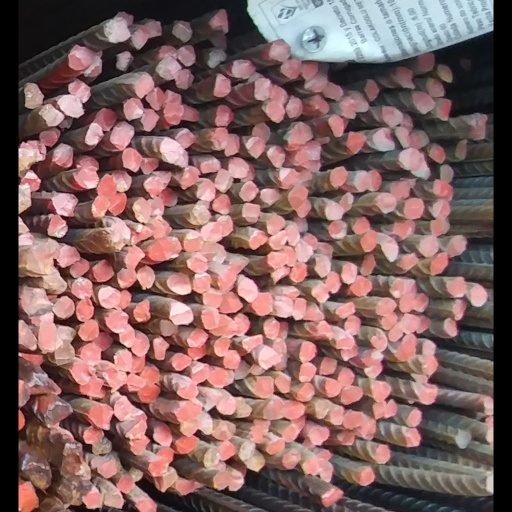dipstick: (25, 365, 62, 394), (147, 237, 181, 260), (44, 400, 72, 426), (162, 140, 188, 167), (30, 288, 53, 318), (27, 247, 52, 274), (38, 323, 61, 351), (285, 123, 313, 146), (90, 404, 114, 430), (144, 171, 169, 195), (167, 271, 192, 295), (52, 193, 79, 215), (81, 375, 105, 399), (29, 462, 52, 487), (395, 334, 417, 360), (213, 470, 243, 489), (111, 124, 134, 148), (107, 225, 129, 250), (252, 376, 275, 399), (412, 91, 435, 114), (60, 95, 84, 117), (41, 105, 64, 127), (156, 58, 179, 80), (43, 271, 66, 293), (105, 20, 129, 41), (19, 322, 37, 350), (153, 423, 174, 447), (19, 483, 38, 509), (53, 296, 75, 318), (71, 362, 94, 383), (105, 367, 126, 390), (169, 303, 192, 324), (129, 225, 152, 246), (350, 276, 373, 297), (213, 419, 237, 439), (269, 39, 290, 61), (98, 287, 120, 308), (94, 259, 114, 282), (263, 397, 283, 420), (259, 346, 279, 369), (24, 84, 43, 108), (254, 292, 273, 316), (135, 73, 153, 98), (106, 310, 127, 331), (80, 344, 101, 365), (213, 315, 234, 336), (187, 253, 208, 274), (205, 243, 226, 264), (399, 149, 420, 170), (70, 79, 90, 101), (125, 247, 145, 269), (53, 143, 72, 166), (137, 266, 156, 289), (288, 186, 307, 209), (238, 278, 257, 301), (469, 284, 488, 307), (347, 131, 366, 154), (123, 149, 141, 173), (470, 114, 487, 139), (71, 48, 92, 68), (195, 180, 215, 201), (184, 231, 205, 251), (201, 222, 222, 242), (322, 488, 344, 507), (223, 293, 242, 315), (447, 235, 466, 257), (216, 104, 234, 127), (122, 421, 145, 439), (132, 198, 150, 221), (267, 145, 285, 168), (231, 60, 255, 77), (381, 238, 398, 262), (176, 402, 201, 418), (433, 180, 453, 200), (409, 130, 429, 150), (72, 277, 91, 298), (189, 363, 208, 384), (152, 217, 171, 238), (190, 205, 209, 226), (216, 267, 237, 286), (431, 199, 450, 220), (375, 129, 394, 150), (193, 272, 211, 294), (396, 67, 414, 89), (75, 169, 98, 186), (213, 74, 230, 97), (48, 217, 71, 234), (134, 300, 151, 323), (175, 436, 198, 453), (430, 252, 447, 275), (198, 409, 213, 435), (234, 313, 250, 337), (327, 114, 343, 138), (124, 99, 143, 119), (175, 129, 194, 149), (54, 344, 73, 364), (98, 459, 117, 479), (62, 455, 82, 474), (232, 397, 251, 417), (245, 452, 265, 471), (229, 157, 248, 177), (371, 383, 391, 402), (395, 221, 415, 240), (382, 107, 401, 127), (172, 22, 193, 40), (254, 78, 272, 99), (92, 438, 113, 456), (203, 392, 221, 413), (295, 241, 313, 262), (210, 10, 227, 32), (113, 349, 130, 371), (225, 133, 241, 156), (77, 298, 93, 321), (176, 382, 199, 398), (282, 59, 301, 78), (203, 289, 222, 308), (400, 314, 419, 333), (405, 199, 424, 218), (85, 123, 103, 143), (164, 105, 182, 125), (252, 122, 270, 142), (245, 137, 263, 157), (113, 171, 131, 191), (118, 268, 136, 288), (79, 319, 97, 339), (104, 491, 124, 509), (282, 449, 300, 469), (274, 297, 292, 317), (297, 382, 315, 402), (397, 253, 417, 271), (142, 110, 159, 131), (264, 438, 285, 455), (252, 421, 269, 442), (171, 353, 192, 370), (360, 420, 377, 441), (360, 231, 377, 252), (420, 235, 437, 256), (177, 68, 193, 90), (287, 96, 303, 118), (201, 307, 217, 329), (340, 387, 362, 403), (436, 98, 451, 121), (179, 46, 197, 65), (96, 110, 114, 129), (179, 169, 197, 188), (71, 260, 90, 278), (61, 246, 80, 264), (57, 326, 76, 344), (127, 372, 145, 391), (189, 329, 208, 347), (212, 335, 231, 353), (244, 334, 263, 352), (269, 231, 287, 250), (446, 278, 465, 296), (325, 81, 342, 101), (267, 102, 284, 122), (92, 196, 109, 216), (133, 334, 150, 354), (219, 440, 236, 460), (302, 456, 319, 476), (284, 401, 304, 418), (343, 412, 363, 429), (420, 384, 437, 404), (379, 193, 396, 213), (330, 166, 347, 186), (209, 367, 225, 388), (262, 318, 278, 339), (314, 255, 330, 276), (353, 91, 369, 112), (153, 337, 168, 359), (142, 366, 160, 384), (279, 168, 297, 186), (249, 231, 267, 249), (328, 221, 346, 239), (391, 180, 409, 198), (213, 195, 230, 214), (242, 203, 259, 222), (240, 182, 257, 201), (298, 363, 315, 382), (377, 297, 396, 314), (162, 469, 176, 492), (209, 47, 225, 67), (84, 428, 104, 444), (159, 321, 179, 337), (217, 216, 233, 236), (260, 188, 280, 204), (275, 374, 291, 394), (335, 302, 355, 318), (430, 219, 450, 235), (148, 89, 163, 110), (114, 398, 129, 419), (238, 440, 253, 461), (319, 461, 334, 482), (216, 170, 231, 191), (341, 263, 356, 284), (132, 27, 146, 49), (355, 170, 369, 192), (312, 95, 329, 113), (84, 491, 102, 508), (177, 479, 194, 497), (266, 215, 283, 233), (267, 251, 285, 268), (319, 357, 336, 375), (141, 385, 160, 401), (179, 421, 199, 436), (225, 350, 240, 370), (228, 256, 248, 271), (300, 342, 315, 362), (309, 428, 329, 443), (314, 399, 329, 419), (406, 408, 421, 428), (304, 305, 324, 320), (325, 273, 340, 293), (24, 144, 45, 158), (212, 128, 226, 149), (362, 352, 383, 366), (341, 97, 355, 118), (272, 267, 289, 284), (325, 203, 342, 220), (149, 459, 167, 475), (275, 285, 299, 297), (312, 284, 328, 302), (291, 264, 307, 282), (353, 216, 369, 234), (417, 52, 435, 68), (429, 144, 445, 162), (120, 326, 133, 348), (205, 446, 218, 468), (99, 176, 114, 195), (200, 159, 219, 174), (325, 378, 340, 397), (405, 428, 420, 447), (318, 321, 333, 340), (388, 322, 403, 341), (286, 224, 300, 244), (307, 140, 321, 160), (395, 127, 409, 147), (19, 383, 30, 408), (305, 78, 326, 91), (59, 443, 80, 456), (292, 299, 305, 320), (362, 254, 375, 275), (182, 106, 199, 122), (118, 476, 135, 492), (293, 149, 309, 166), (338, 368, 354, 385), (370, 333, 386, 350), (301, 61, 316, 79), (129, 438, 147, 453), (218, 397, 233, 415), (337, 431, 355, 446), (424, 357, 439, 375), (317, 242, 332, 260), (344, 316, 359, 334), (381, 311, 396, 329), (421, 340, 436, 358), (164, 90, 183, 104), (151, 196, 165, 215), (186, 347, 208, 359), (39, 132, 59, 145), (78, 156, 98, 169), (400, 293, 413, 313), (366, 79, 379, 99), (142, 157, 158, 173), (118, 52, 133, 69), (43, 497, 60, 512), (359, 467, 374, 484), (365, 364, 382, 379), (428, 79, 443, 96), (375, 446, 389, 464), (417, 315, 431, 333), (413, 294, 427, 312), (236, 361, 249, 380), (369, 169, 380, 191), (145, 22, 161, 37), (272, 86, 288, 101), (282, 426, 298, 441), (335, 337, 355, 349), (453, 300, 465, 320), (455, 139, 467, 159), (296, 201, 310, 218), (438, 64, 452, 81), (390, 279, 403, 297), (89, 57, 101, 76), (417, 164, 433, 178), (140, 499, 157, 512), (330, 407, 343, 424), (120, 289, 131, 309), (385, 399, 396, 419), (132, 356, 144, 374), (284, 247, 296, 265), (456, 431, 469, 447), (444, 319, 456, 336), (404, 279, 416, 296), (440, 165, 452, 182), (278, 322, 289, 340), (341, 193, 352, 211), (373, 402, 384, 419), (482, 398, 493, 415), (164, 192, 177, 206), (274, 340, 286, 355), (305, 234, 317, 249), (341, 348, 357, 359), (160, 47, 177, 57), (297, 217, 308, 232), (402, 114, 413, 129), (485, 427, 493, 442), (318, 451, 331, 459), (226, 373, 233, 386), (131, 471, 140, 480)
